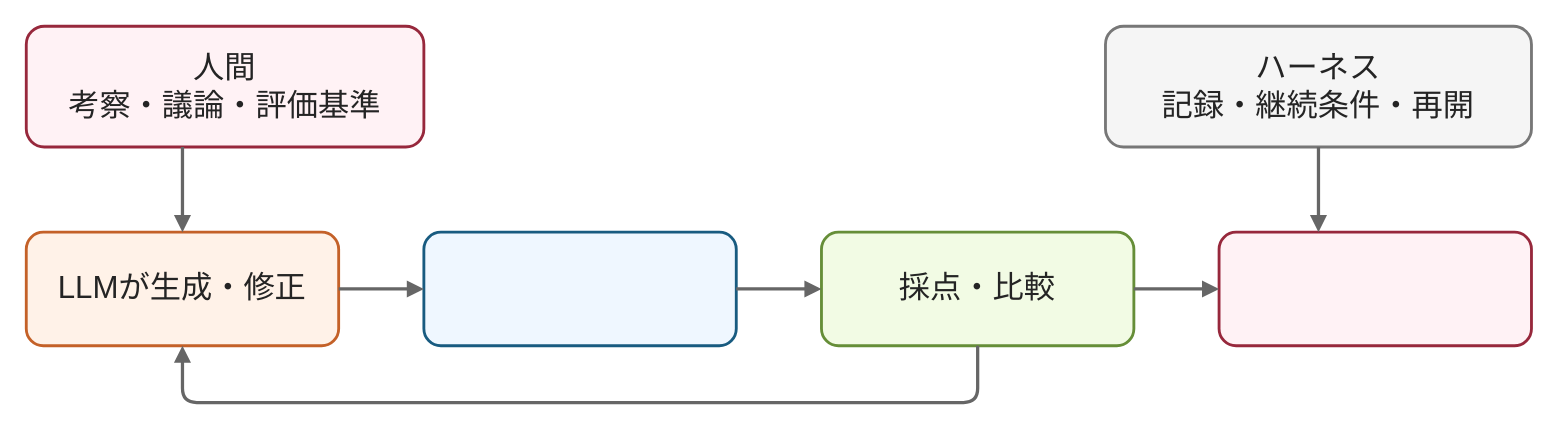
Some shapes in this 1556 by 440 pixel diagram are drawn without their labels. The box of each missing label's shape, as (x1, y1, x2, y2) in pixels:
ビルド・実行: (422, 230, 737, 346)
条件を満たせば採用: (1217, 230, 1532, 346)
